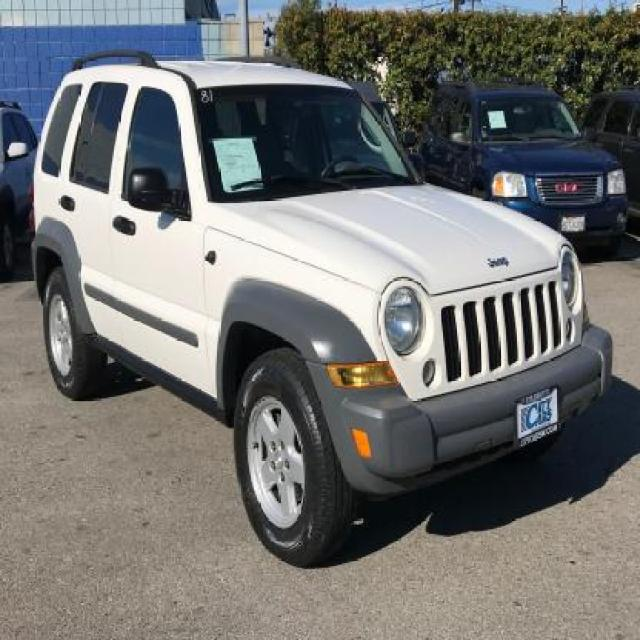Jeep: (29, 48, 612, 566)
